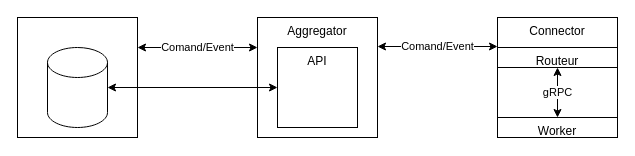
The diagram is 635 pixels wide and 156 high, and some of its shapes have lost their labels. Each missing label, with the box of its shape:
Cluster: (16, 16, 138, 138)
Cockroach: (46, 46, 108, 128)
